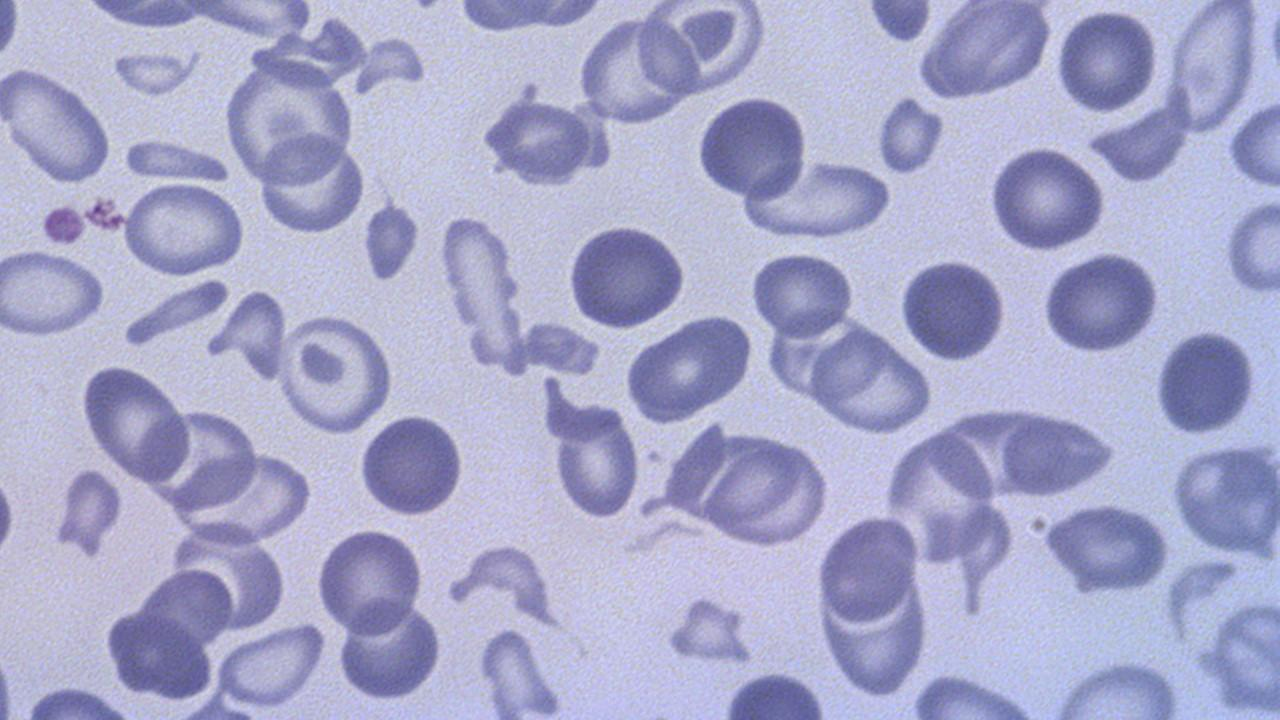RBC: (220, 55, 356, 187), (879, 427, 999, 565), (696, 440, 844, 548), (275, 312, 398, 435), (624, 314, 754, 426), (700, 443, 834, 550), (916, 1, 1055, 104), (78, 362, 192, 483), (985, 143, 1109, 254), (564, 222, 690, 331), (0, 66, 114, 186), (808, 331, 936, 435), (632, 2, 772, 97), (574, 13, 691, 126), (1039, 250, 1163, 356), (314, 523, 426, 638), (693, 95, 812, 202), (896, 255, 1012, 364), (120, 179, 245, 280), (1042, 498, 1170, 596), (1171, 440, 1279, 556), (1166, 1, 1258, 137), (737, 159, 893, 238), (1152, 326, 1260, 439), (816, 512, 923, 626), (255, 130, 371, 235), (357, 412, 469, 520), (333, 599, 444, 704), (1054, 6, 1160, 115), (998, 410, 1122, 497), (211, 622, 330, 712), (478, 96, 593, 189), (551, 406, 642, 522), (0, 248, 110, 340), (438, 212, 518, 332), (750, 249, 856, 339), (1206, 592, 1280, 716), (1048, 656, 1182, 716), (225, 287, 290, 384), (876, 92, 948, 178), (1223, 195, 1279, 296), (117, 136, 233, 184), (363, 196, 424, 286), (1226, 93, 1278, 191), (0, 0, 23, 66)
